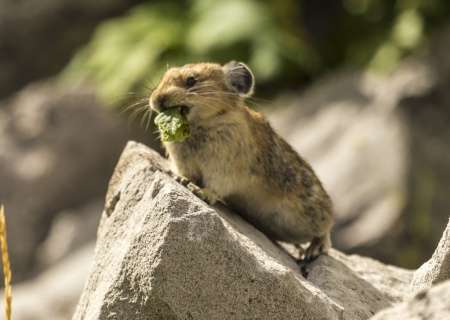Squirrel: (108, 61, 332, 256)
